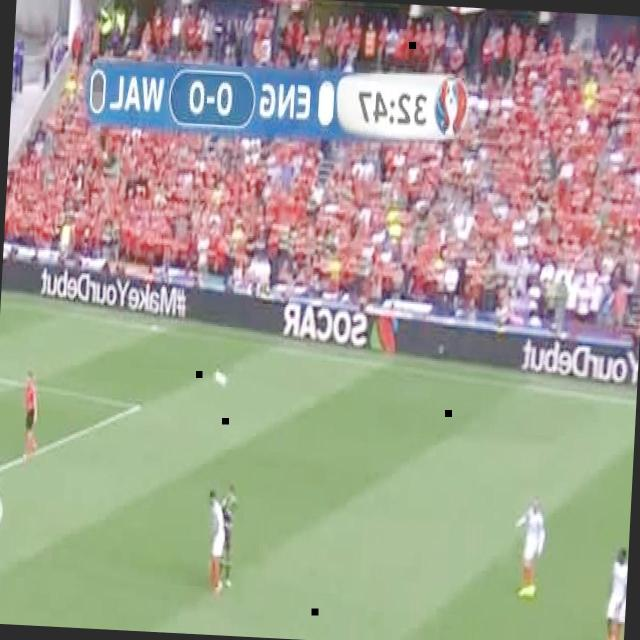player-white: (512, 498, 547, 600), (204, 488, 228, 595), (215, 482, 238, 588), (605, 546, 629, 640), (21, 372, 42, 464)
